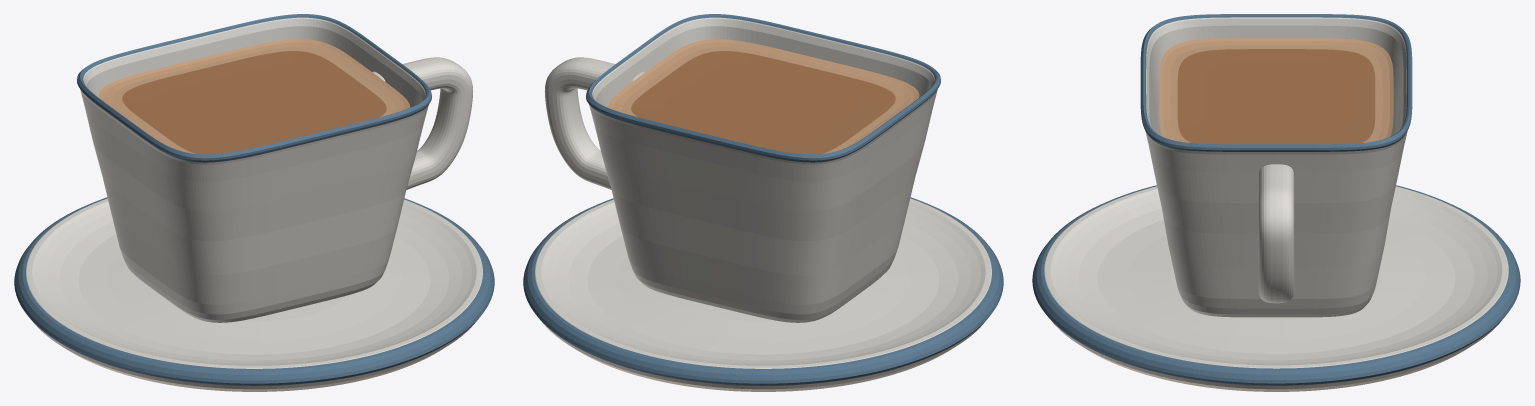
Rendered from cpinsai-cup.glb.
3 renders of one model, left to right at view 1: azimuth 30°, elevation 25°; view 2: azimuth 150°, elevation 25°; view 3: azimuth 270°, elevation 25°, orthographic.
Visible parts, largest first — view 1: Cup_Hollow_Ivory, Saucer_Top_Circular, Coffee_Surface_Dark, Saucer_Outer_Rim_Navy, Coffee_Surface_Meniscus, Handle_Rounded_Square_Attached, Cup_Upper_Rim_Navy, Saucer_Underside_Circular; view 2: Cup_Hollow_Ivory, Saucer_Top_Circular, Coffee_Surface_Dark, Saucer_Outer_Rim_Navy, Coffee_Surface_Meniscus, Handle_Rounded_Square_Attached, Cup_Upper_Rim_Navy, Saucer_Underside_Circular; view 3: Saucer_Top_Circular, Cup_Hollow_Ivory, Coffee_Surface_Dark, Saucer_Outer_Rim_Navy, Coffee_Surface_Meniscus, Handle_Rounded_Square_Attached, Cup_Upper_Rim_Navy, Saucer_Underside_Circular.
Boxes of the visible parts, x1,y1,x2,y2 form: Cup_Hollow_Ivory: (80,17,428,322); Saucer_Top_Circular: (26,198,482,368); Coffee_Surface_Dark: (122,51,386,154); Saucer_Outer_Rim_Navy: (14,197,494,385); Coffee_Surface_Meniscus: (98,39,410,153); Handle_Rounded_Square_Attached: (372,57,473,189); Cup_Upper_Rim_Navy: (77,14,431,162); Saucer_Underside_Circular: (33,322,475,391); Cup_Hollow_Ivory: (589,17,937,322); Saucer_Top_Circular: (535,198,991,368); Coffee_Surface_Dark: (631,51,895,154); Saucer_Outer_Rim_Navy: (523,197,1003,385); Coffee_Surface_Meniscus: (607,39,919,153); Handle_Rounded_Square_Attached: (544,57,645,189); Cup_Upper_Rim_Navy: (586,14,940,162); Saucer_Underside_Circular: (542,322,984,391); Saucer_Top_Circular: (1044,186,1508,368); Cup_Hollow_Ivory: (1145,17,1407,317); Coffee_Surface_Dark: (1177,49,1375,144); Saucer_Outer_Rim_Navy: (1032,185,1520,385); Coffee_Surface_Meniscus: (1159,38,1393,142); Handle_Rounded_Square_Attached: (1258,164,1294,303); Cup_Upper_Rim_Navy: (1140,14,1412,151); Saucer_Underside_Circular: (1052,322,1500,391).
Size of the model in its own units: 0.1513 by 0.076 by 0.149.
